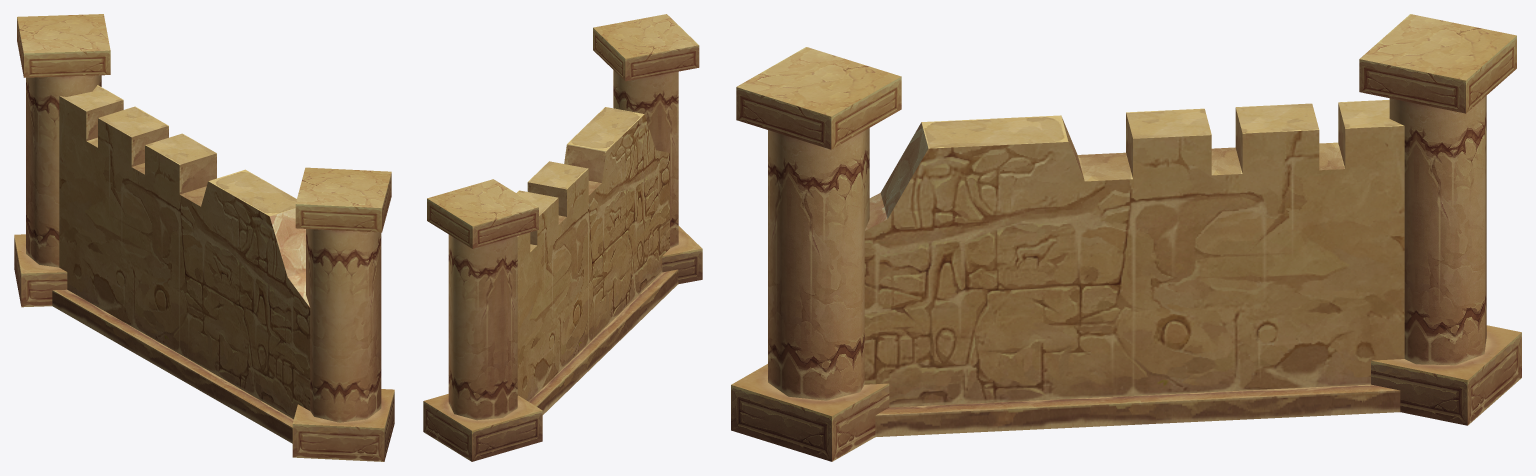
File: Area_12_18.fbx
3 views of the same model, side by side, from view 1: azimuth 30°, elevation 25°; view 2: azimuth 150°, elevation 25°; view 3: azimuth 270°, elevation 25° (orthographic). The views are drawn at different scales.
Visible parts, largest first — view 1: Area_12_18; view 2: Area_12_18; view 3: Area_12_18.
Part boxes in pixels (x1,y1,x2,y2): Area_12_18: [14, 14, 394, 461]; Area_12_18: [423, 14, 702, 461]; Area_12_18: [731, 14, 1521, 461].
Bounding box in the file's own units: 274 × 409 × 855.
